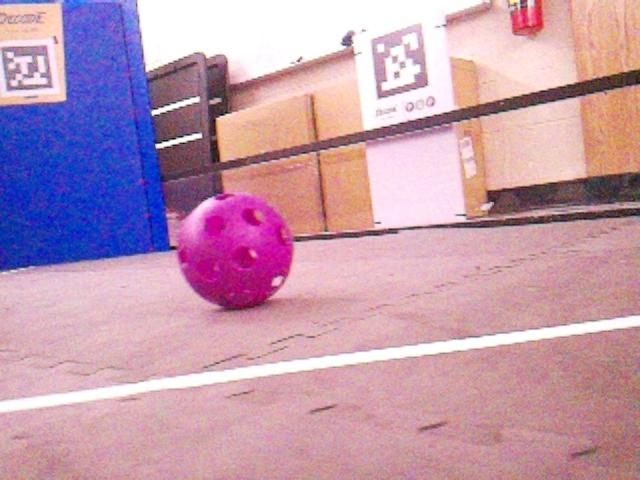Purple: (176, 192, 294, 309)
